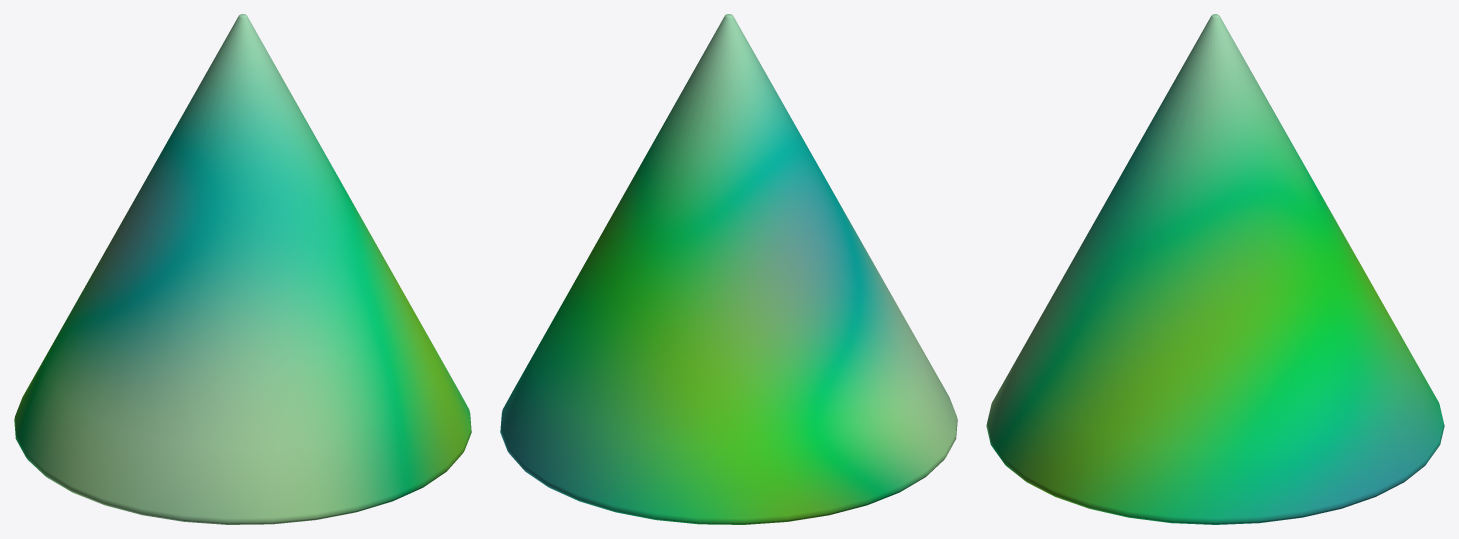
Rendered from Konus.fbx.
The picture shows the model from 3 angles, left to right: view 1: azimuth 30°, elevation 25°; view 2: azimuth 150°, elevation 25°; view 3: azimuth 270°, elevation 25°; orthographic projection.
Visible parts, largest first — view 1: Cone; view 2: Cone; view 3: Cone.
Boxes of the visible parts, left/top/right/bottom form: Cone: left=14, top=14, right=471, bottom=524; Cone: left=500, top=14, right=957, bottom=524; Cone: left=986, top=14, right=1444, bottom=524.
Bounding box in the file's own units: 2.34 × 2.34 × 2.34.
1 material, 1 textured.
